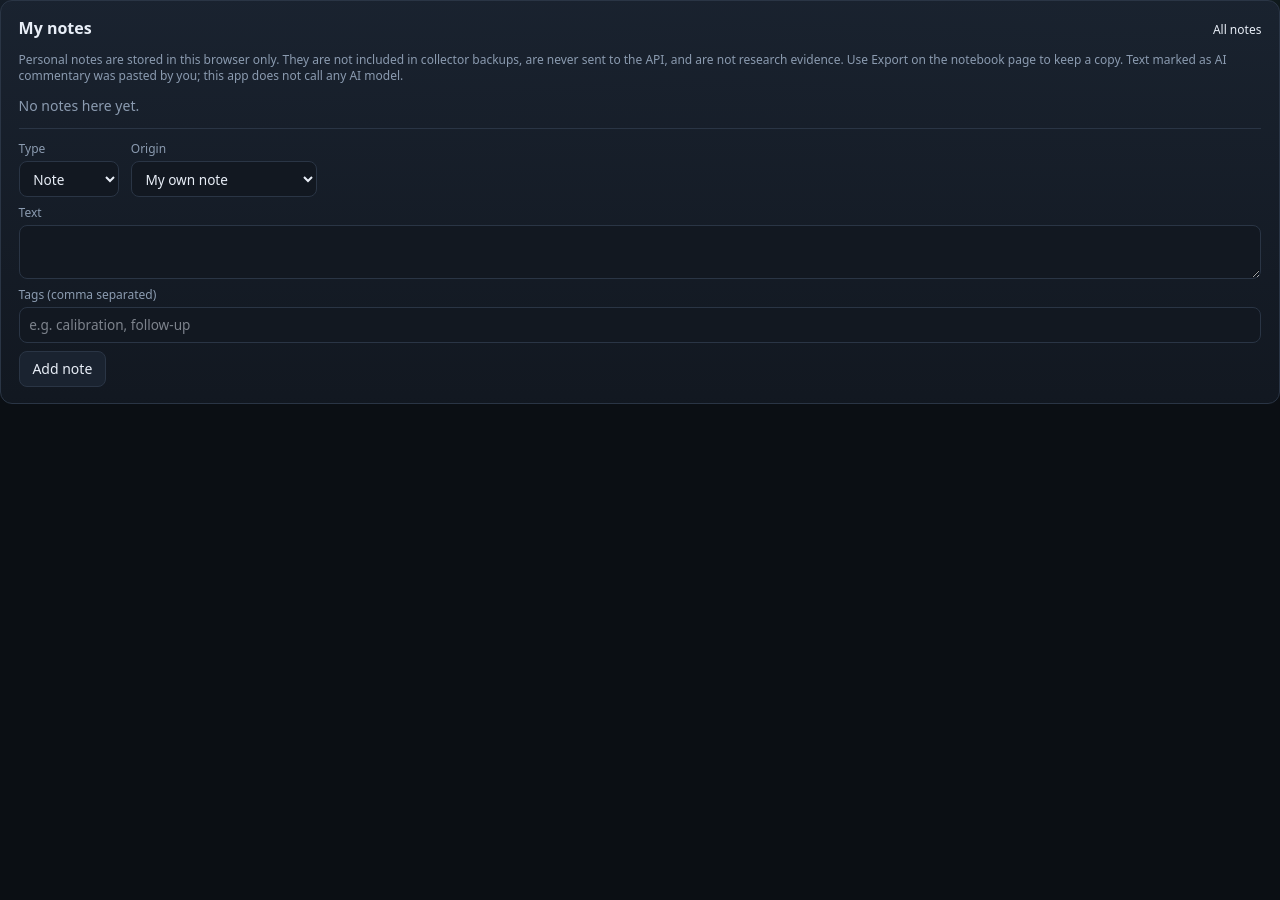
NotebookPanel › adds a tagged question and keeps AI commentary visibly separate
Check: the text "not research evidence" is shown, box [19, 51, 1226, 84]
Select "Question" in the dropdown labelled "Type". click: (69, 179)
box: [19, 161, 119, 197]
Type "Is the NBA cohort too small?" into the text box labelled "Text". click: (640, 252)
box: [19, 225, 1261, 279]
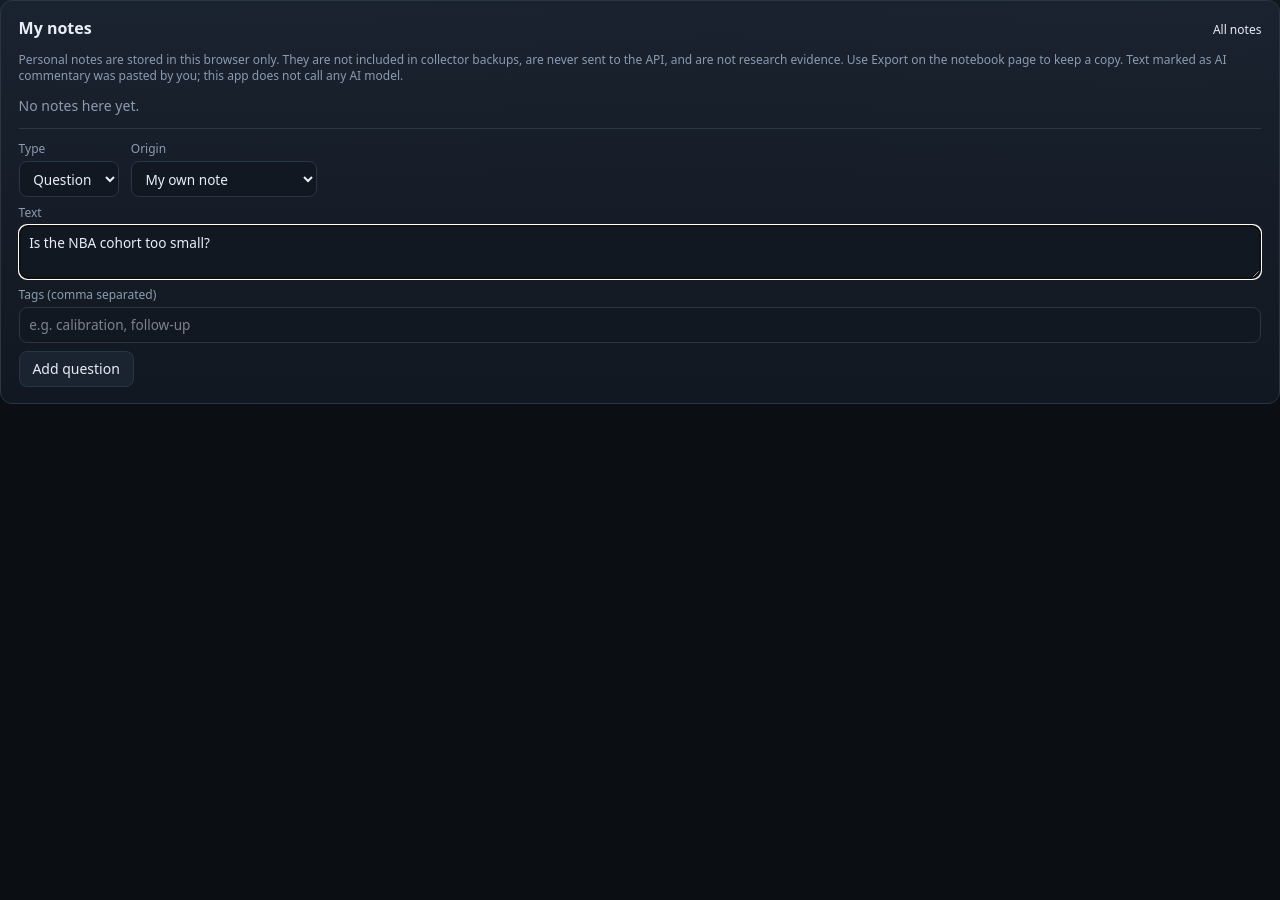
Type "nba, cohort" into the field labelled "Tags (comma separated)". click: (640, 325)
box: [19, 307, 1261, 343]
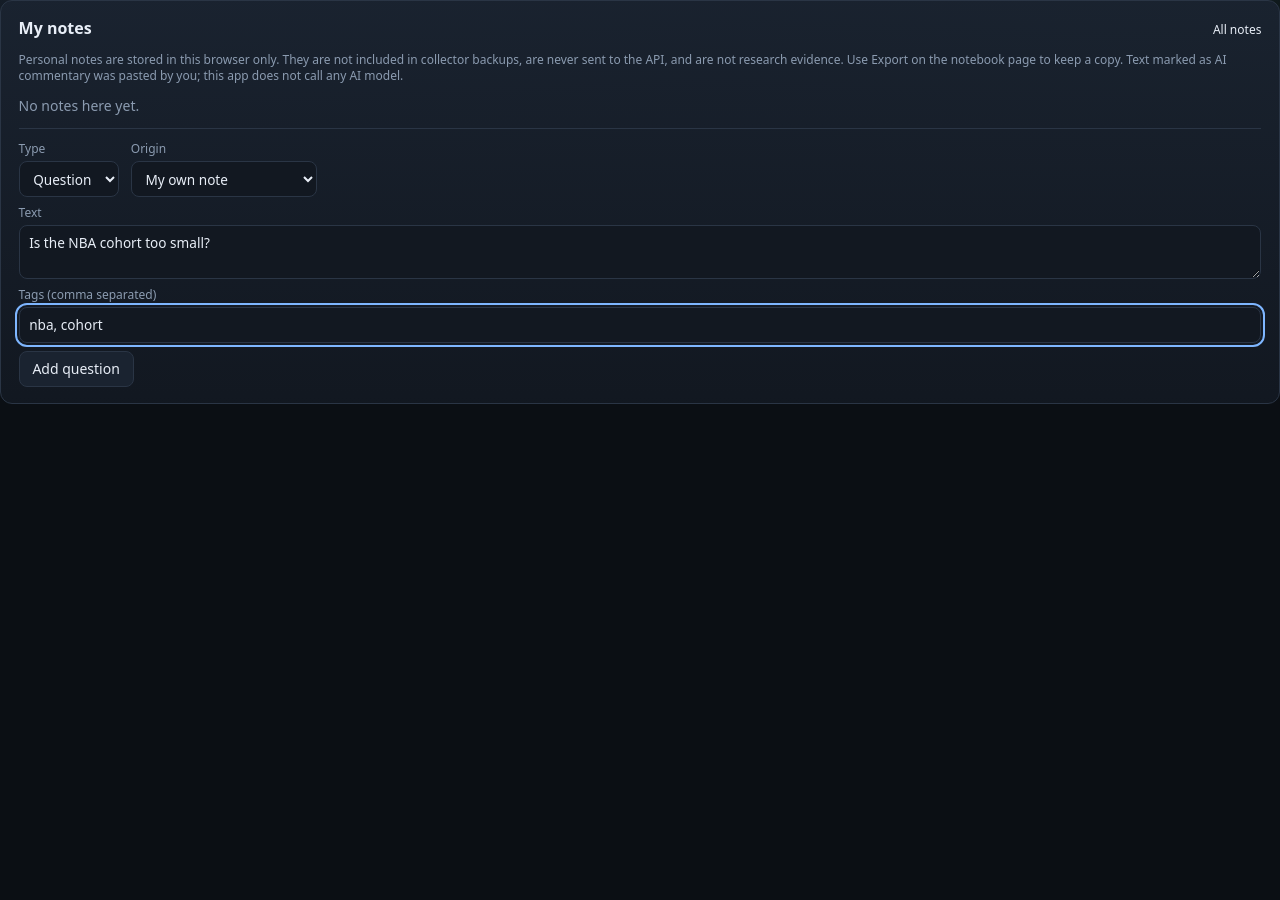
Click the button "Add question". click: (76, 369)
box: [19, 351, 134, 387]
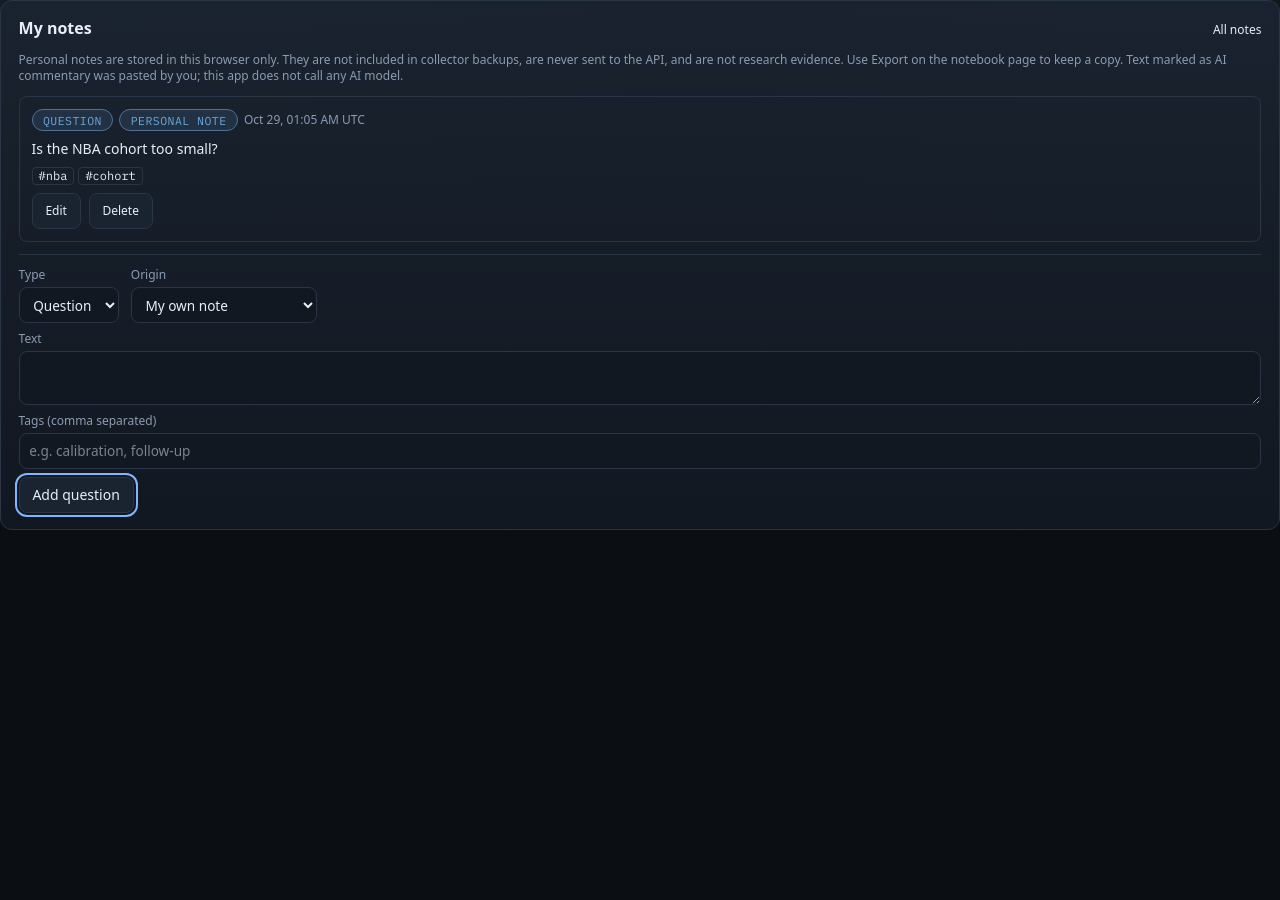
Check: the text "Question" is shown, box [32, 109, 113, 131]
Check: the text "Personal note" is shown, box [119, 109, 238, 131]
Check: the text "#nba" is shown, box [32, 167, 74, 185]
Select "Note" in the dropdown labelled "Type". click: (69, 305)
box: [19, 287, 119, 323]
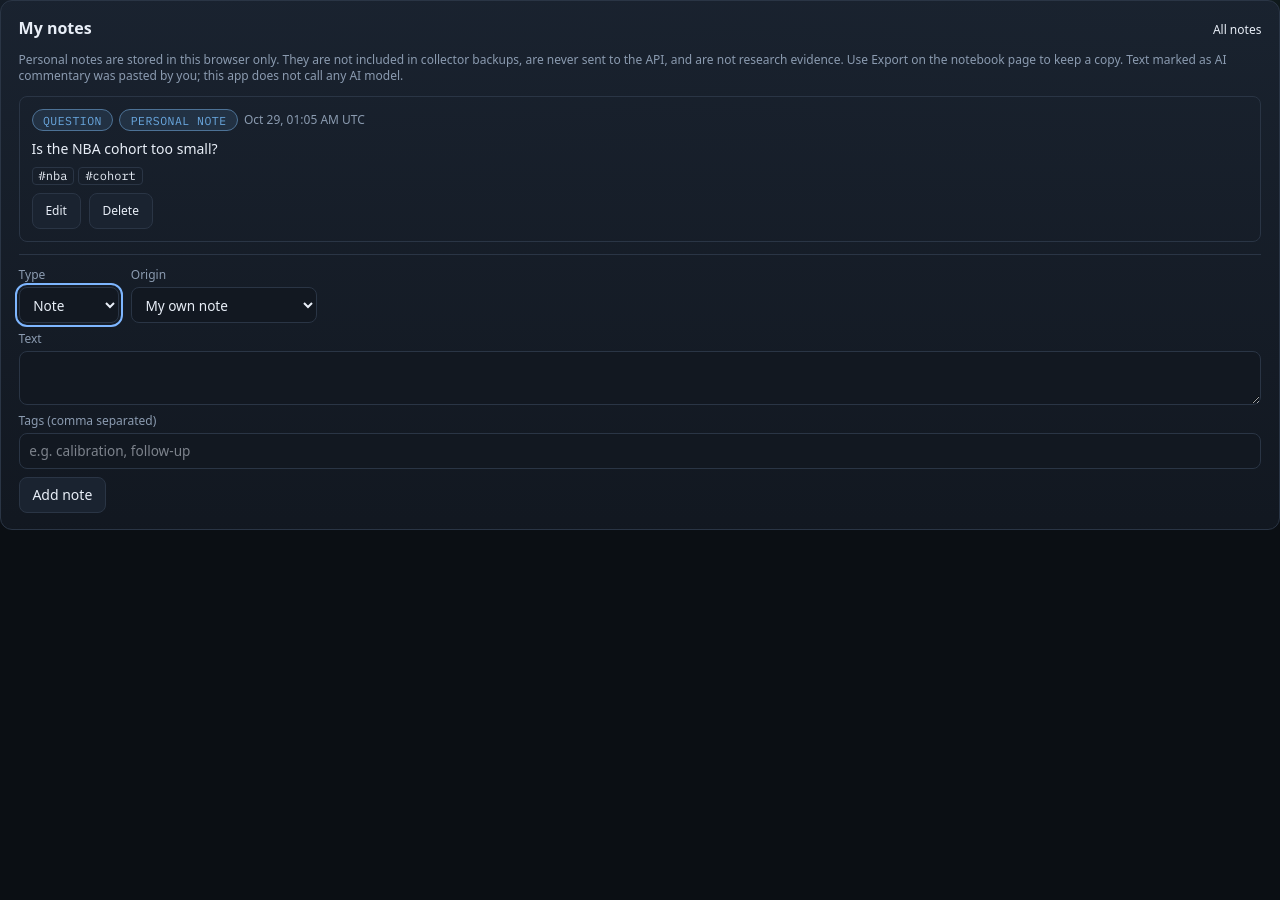
Select "Pasted AI commentary" in the dropdown labelled "Origin". click: (224, 305)
box: [131, 287, 317, 323]
Type "Pasted model summary" into the text box labelled "Text". click: (640, 378)
box: [19, 351, 1261, 405]
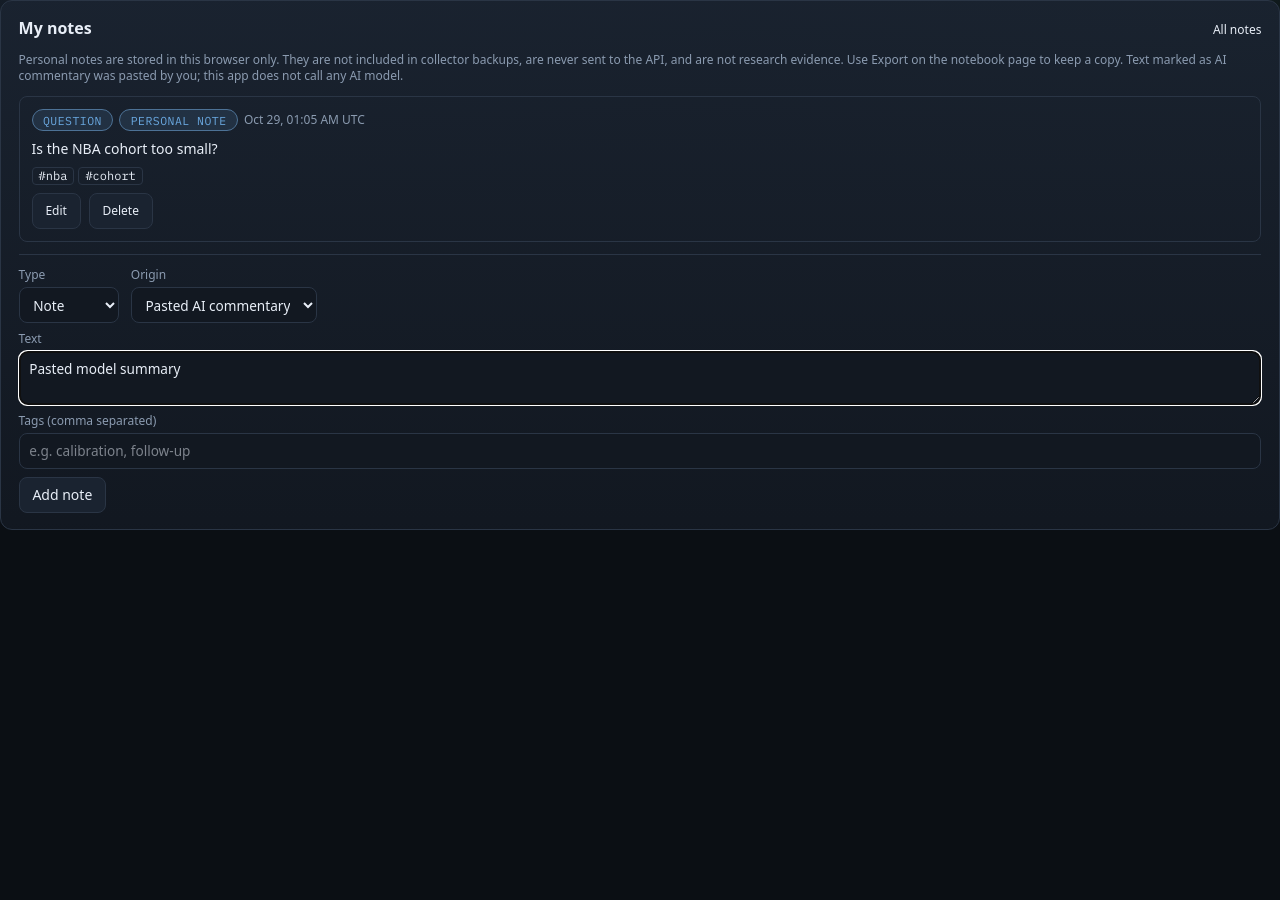
Click the button "Add note". click: (62, 495)
box: [19, 477, 106, 513]
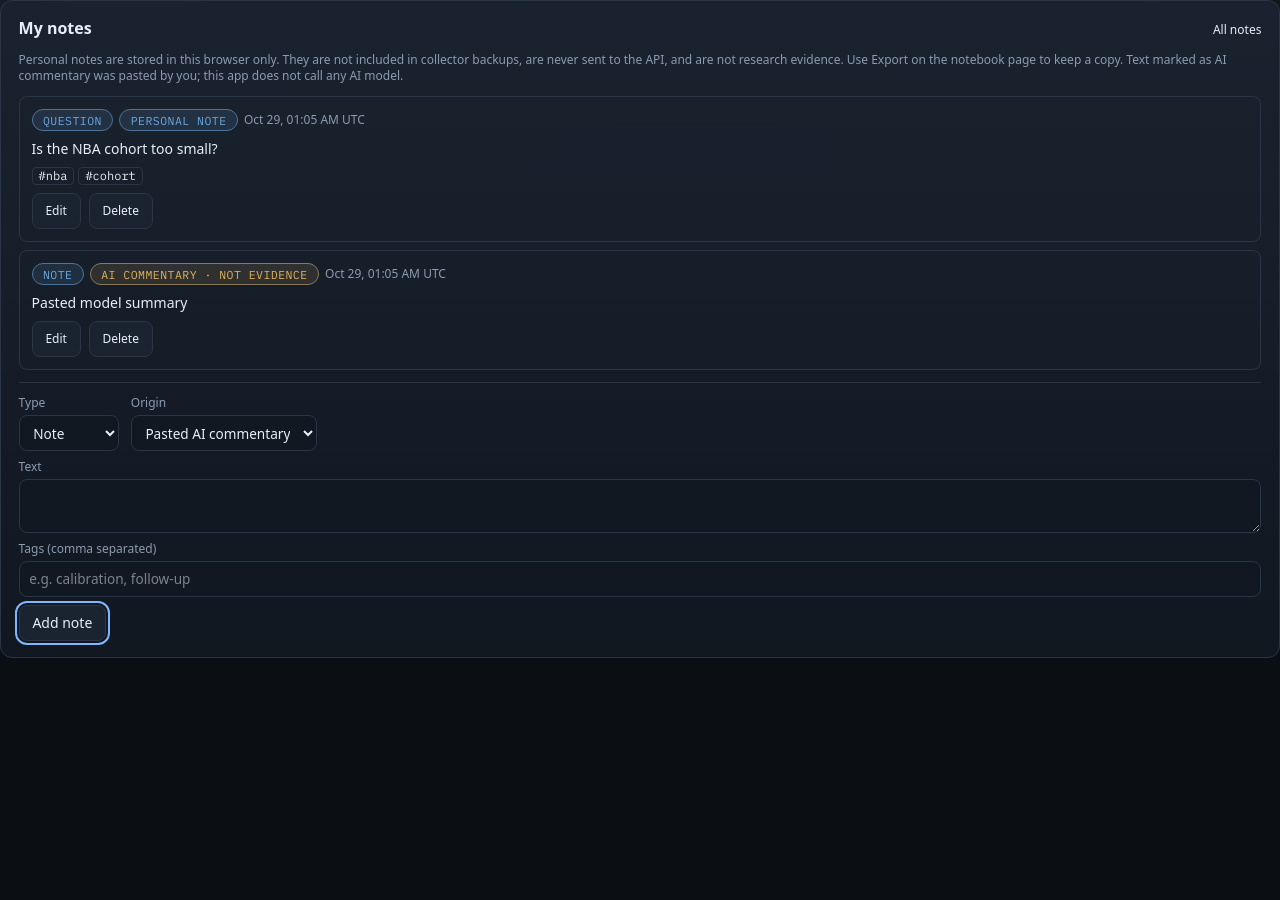
Check: the text "AI commentary · not evidence" is shown, box [90, 263, 319, 285]
